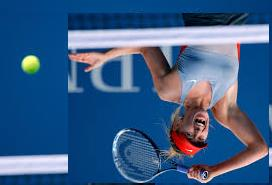elbow: (76, 48, 80, 51), (189, 148, 193, 151)
eye: (145, 59, 151, 65), (134, 55, 139, 61)
hand: (238, 136, 248, 142), (129, 17, 134, 24)
nose: (137, 64, 140, 68)
player: (68, 14, 269, 185)
shoulder: (111, 79, 116, 84), (169, 101, 174, 105)
tennis ball: (21, 55, 40, 74)
tennis racket: (148, 14, 224, 67), (129, 18, 136, 26)
